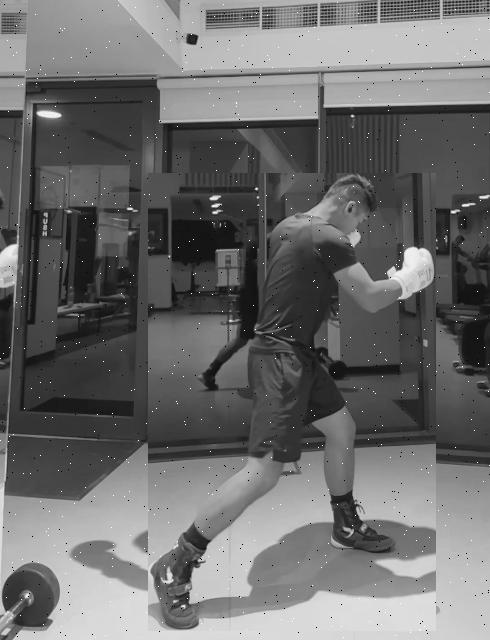punch: (148, 173, 436, 631)
